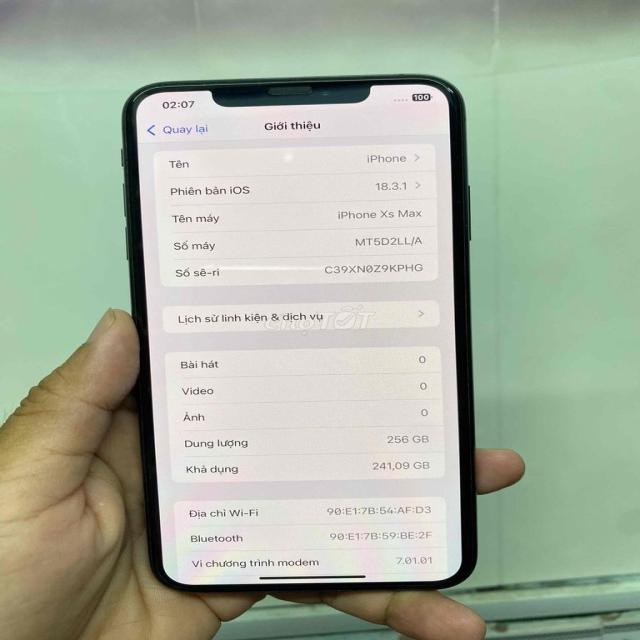gen_x_xs: (84, 65, 516, 607)
